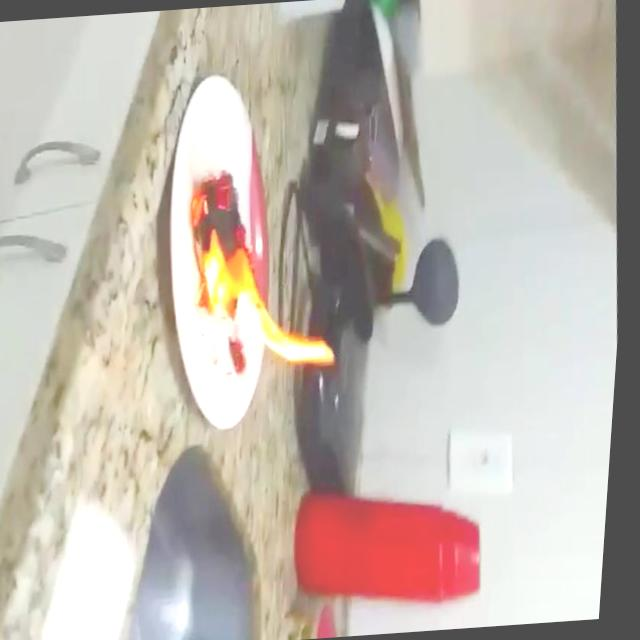helmet: (175, 154, 351, 380)
